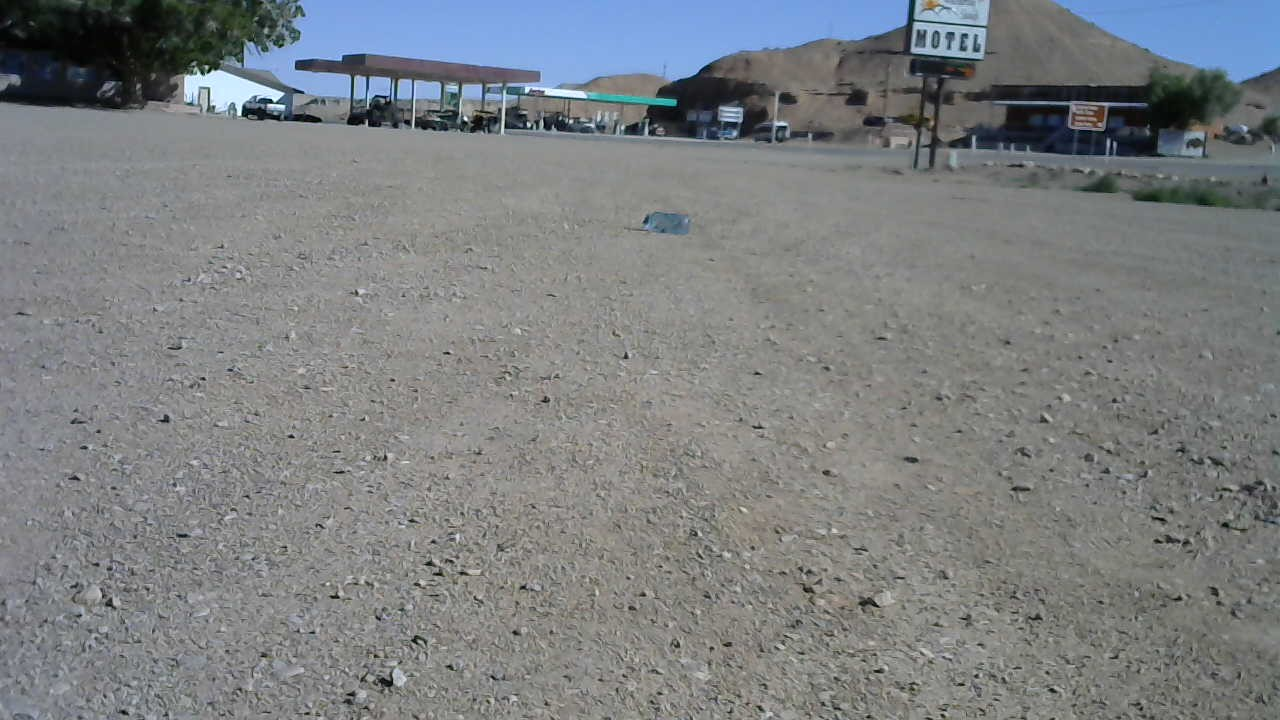bottle: (640, 207, 692, 235)
